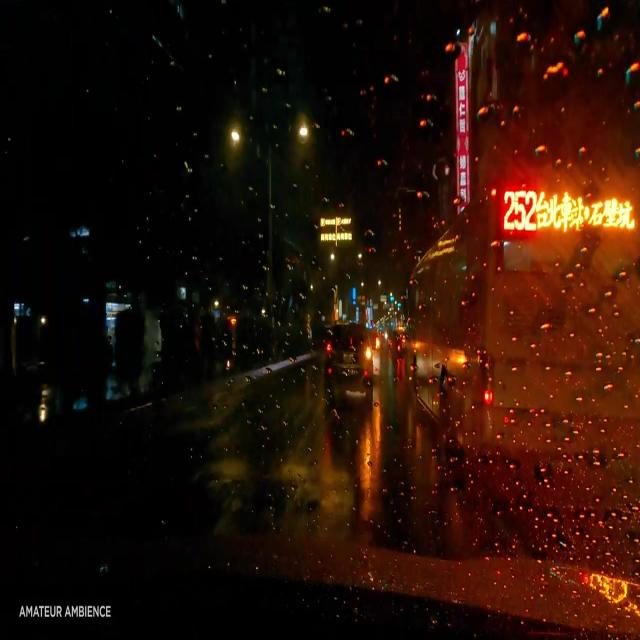Car: (324, 325, 373, 399)
